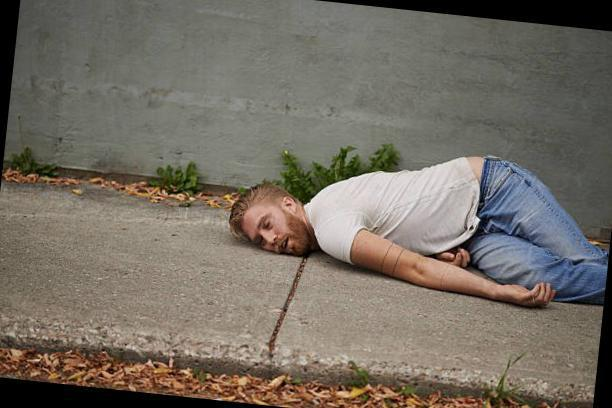Drunk: (239, 207, 303, 254)
